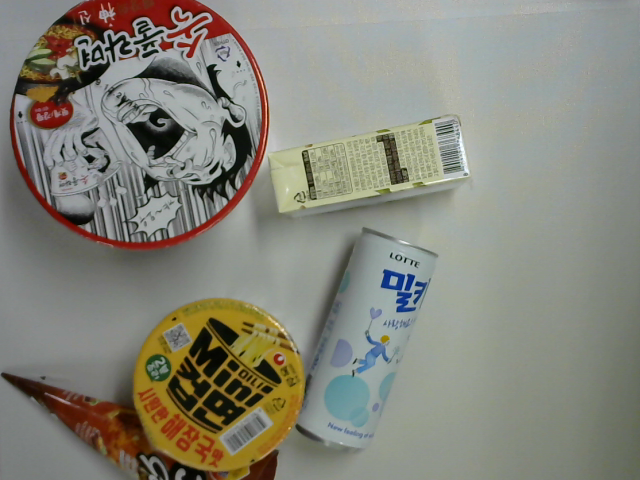99.89_Soymilk: (266, 110, 473, 223)
GooGoo_Cone_CVS: (1, 370, 283, 480)
Hejangmini: (130, 298, 309, 470)
Hejangpul: (9, 1, 270, 248)
Milkies_250ml: (291, 224, 439, 453)
